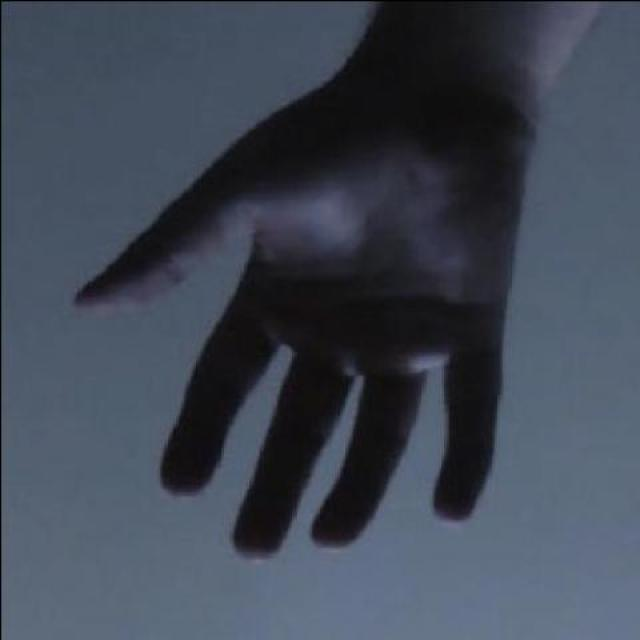Open Hand: (59, 0, 561, 569)
